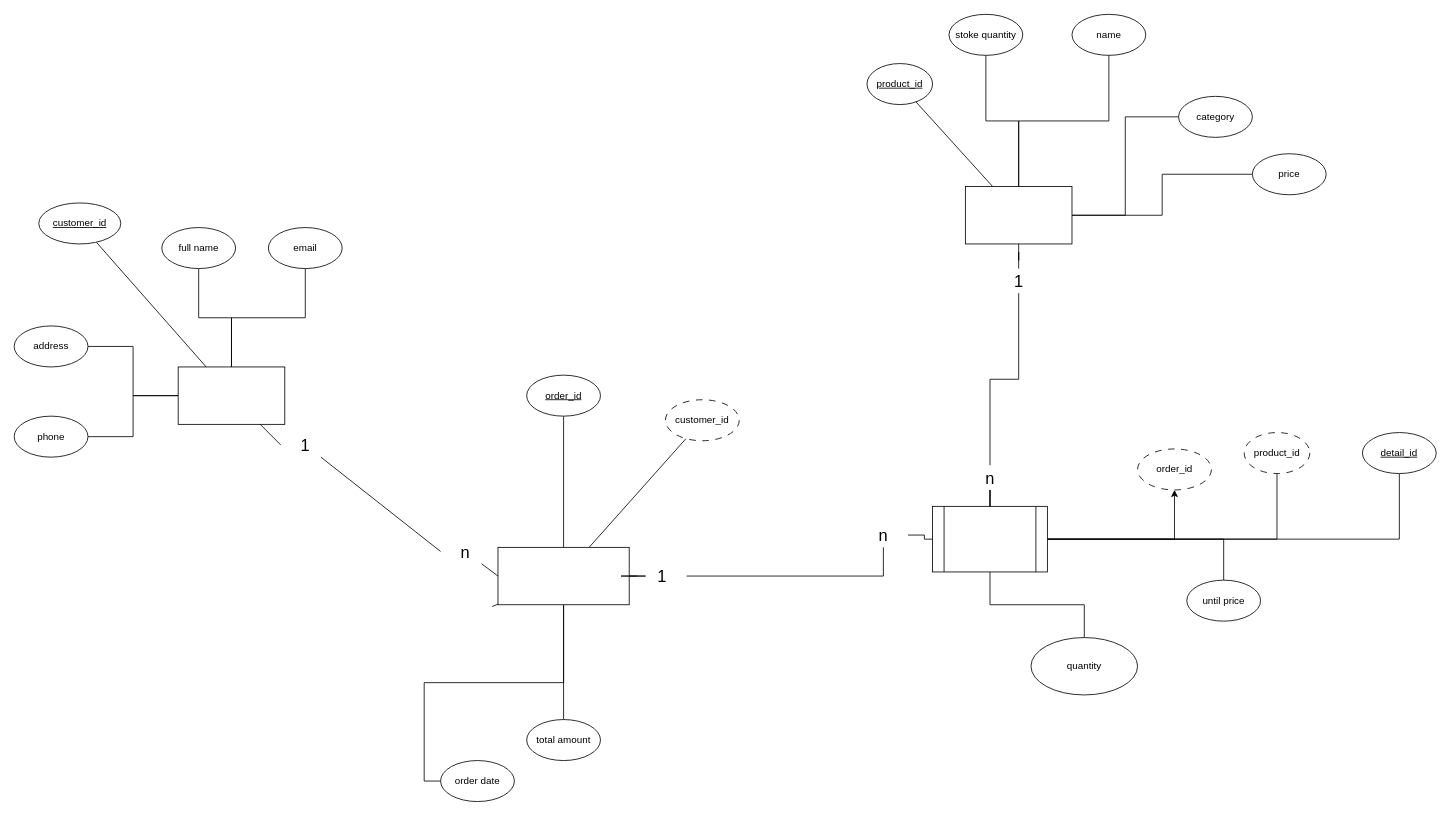
Image size: 1451x816. Some labels were removed from this diagram. The centre of each missing label's shape, as x and y in pixels:
"customers" belongs at pixel 231 395.
"order details" belongs at pixel 989 539.
"orders" belongs at pixel 563 576.
"Products" belongs at pixel 1018 215.
